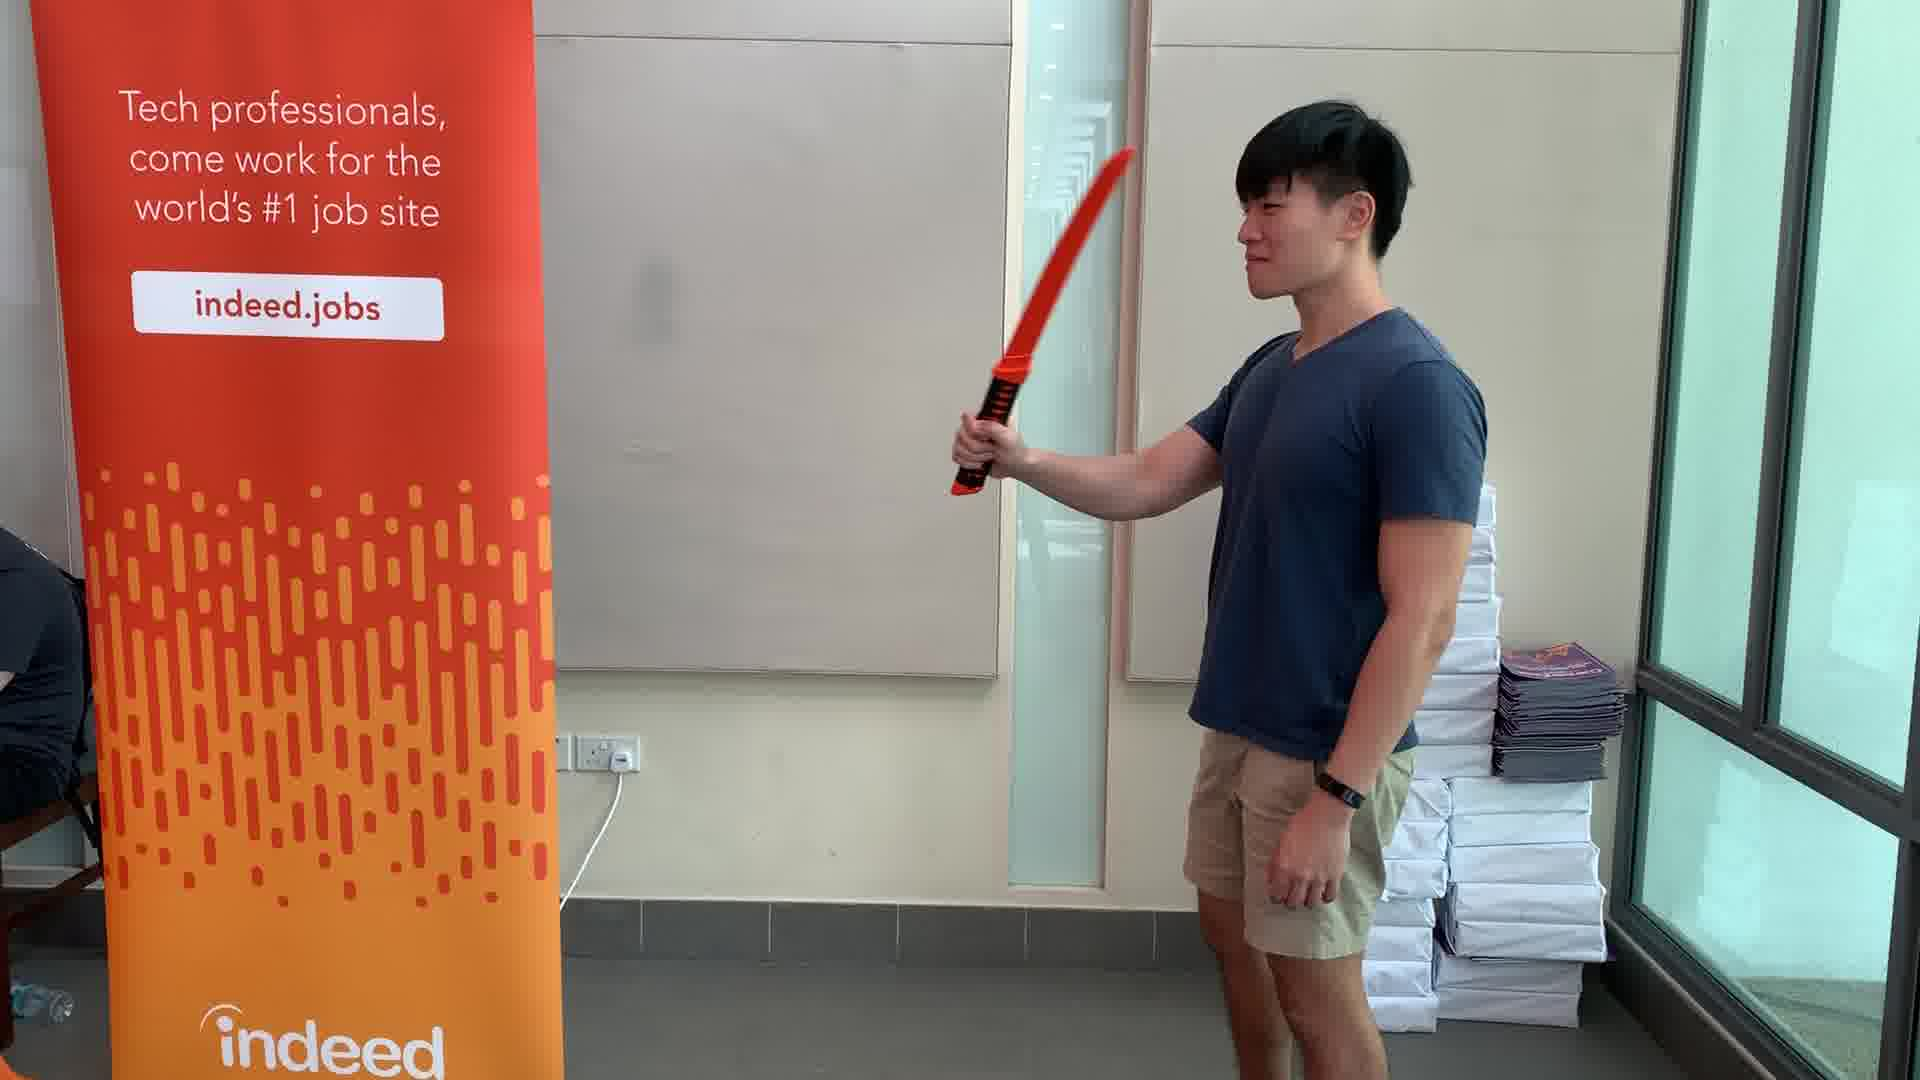knife: (942, 140, 1151, 509)
